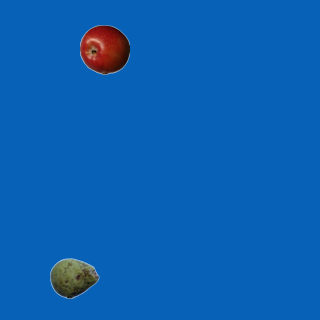Apple Braeburn: (79, 24, 129, 74)
Pear Stone: (49, 253, 99, 303)
